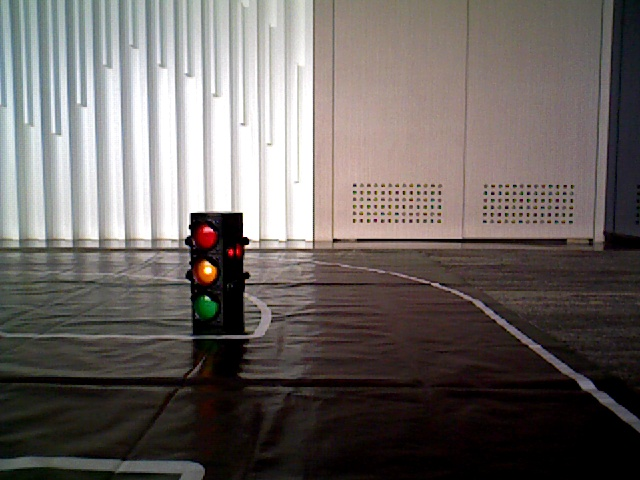yellow: (190, 218, 222, 325)
